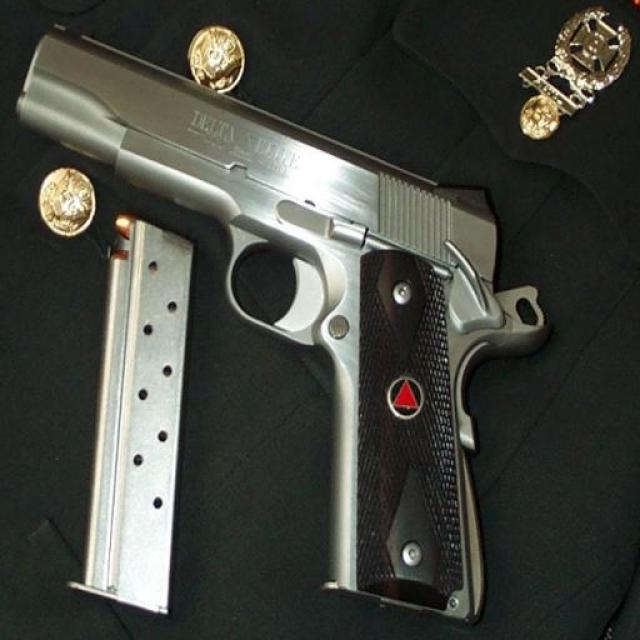pistol: (6, 17, 550, 625)
